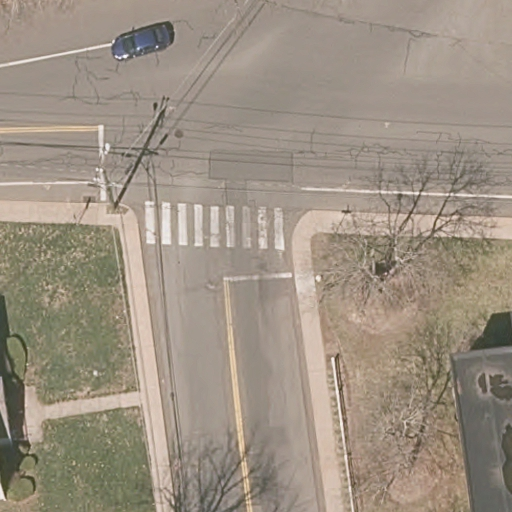DT: (87, 124, 125, 203)
